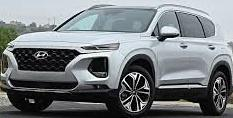Crossovers: (0, 6, 233, 117)
